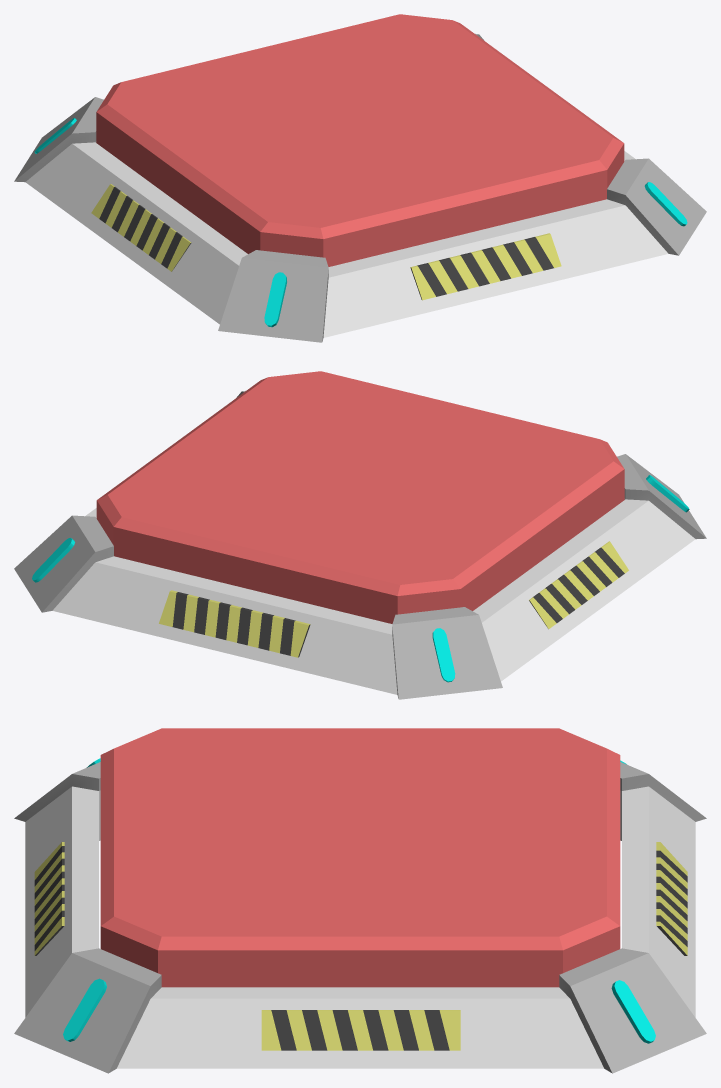
The model's file is Switch_01.fbx.
3 renders of one model, top to bottom at view 1: azimuth 30°, elevation 25°; view 2: azimuth 150°, elevation 25°; view 3: azimuth 270°, elevation 25°, orthographic. The views are drawn at different scales.
Parts seen in each view (by area): view 1: pCube5, pPipe2, pCube9, pCube10, pCylinder22, pCylinder20; view 2: pCube5, pPipe2, pCube9, pCube10, pCylinder23, pCylinder21; view 3: pCube5, pPipe2, pCube10, pCube9, pCylinder21, pCylinder20.
Part boxes in pixels (<box>): pCube5: <box>96,14,624,266</box>; pPipe2: <box>14,33,706,342</box>; pCube9: <box>410,233,561,300</box>; pCube10: <box>91,184,191,271</box>; pCylinder22: <box>264,272,286,327</box>; pCylinder20: <box>644,182,687,226</box>; pCube5: <box>96,371,624,623</box>; pPipe2: <box>14,390,706,699</box>; pCube9: <box>159,590,310,657</box>; pCube10: <box>529,541,628,629</box>; pCylinder23: <box>432,628,455,682</box>; pCylinder21: <box>32,538,74,582</box>; pCube5: <box>100,728,620,987</box>; pPipe2: <box>14,762,706,1073</box>; pCube10: <box>261,1010,460,1050</box>; pCube9: <box>34,842,687,955</box>; pCylinder21: <box>611,980,655,1043</box>; pCylinder20: <box>63,978,106,1041</box>.
Size of the model in its own units: 4.21 by 0.6228 by 4.18.
